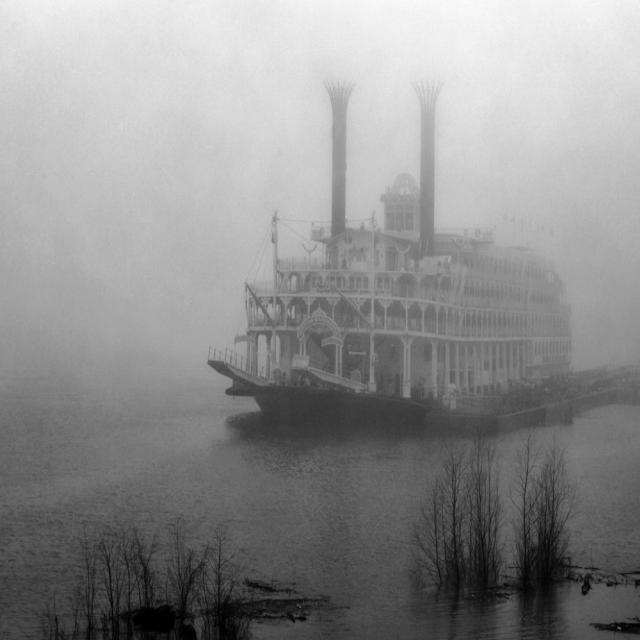passenger ship: (178, 136, 592, 451)
